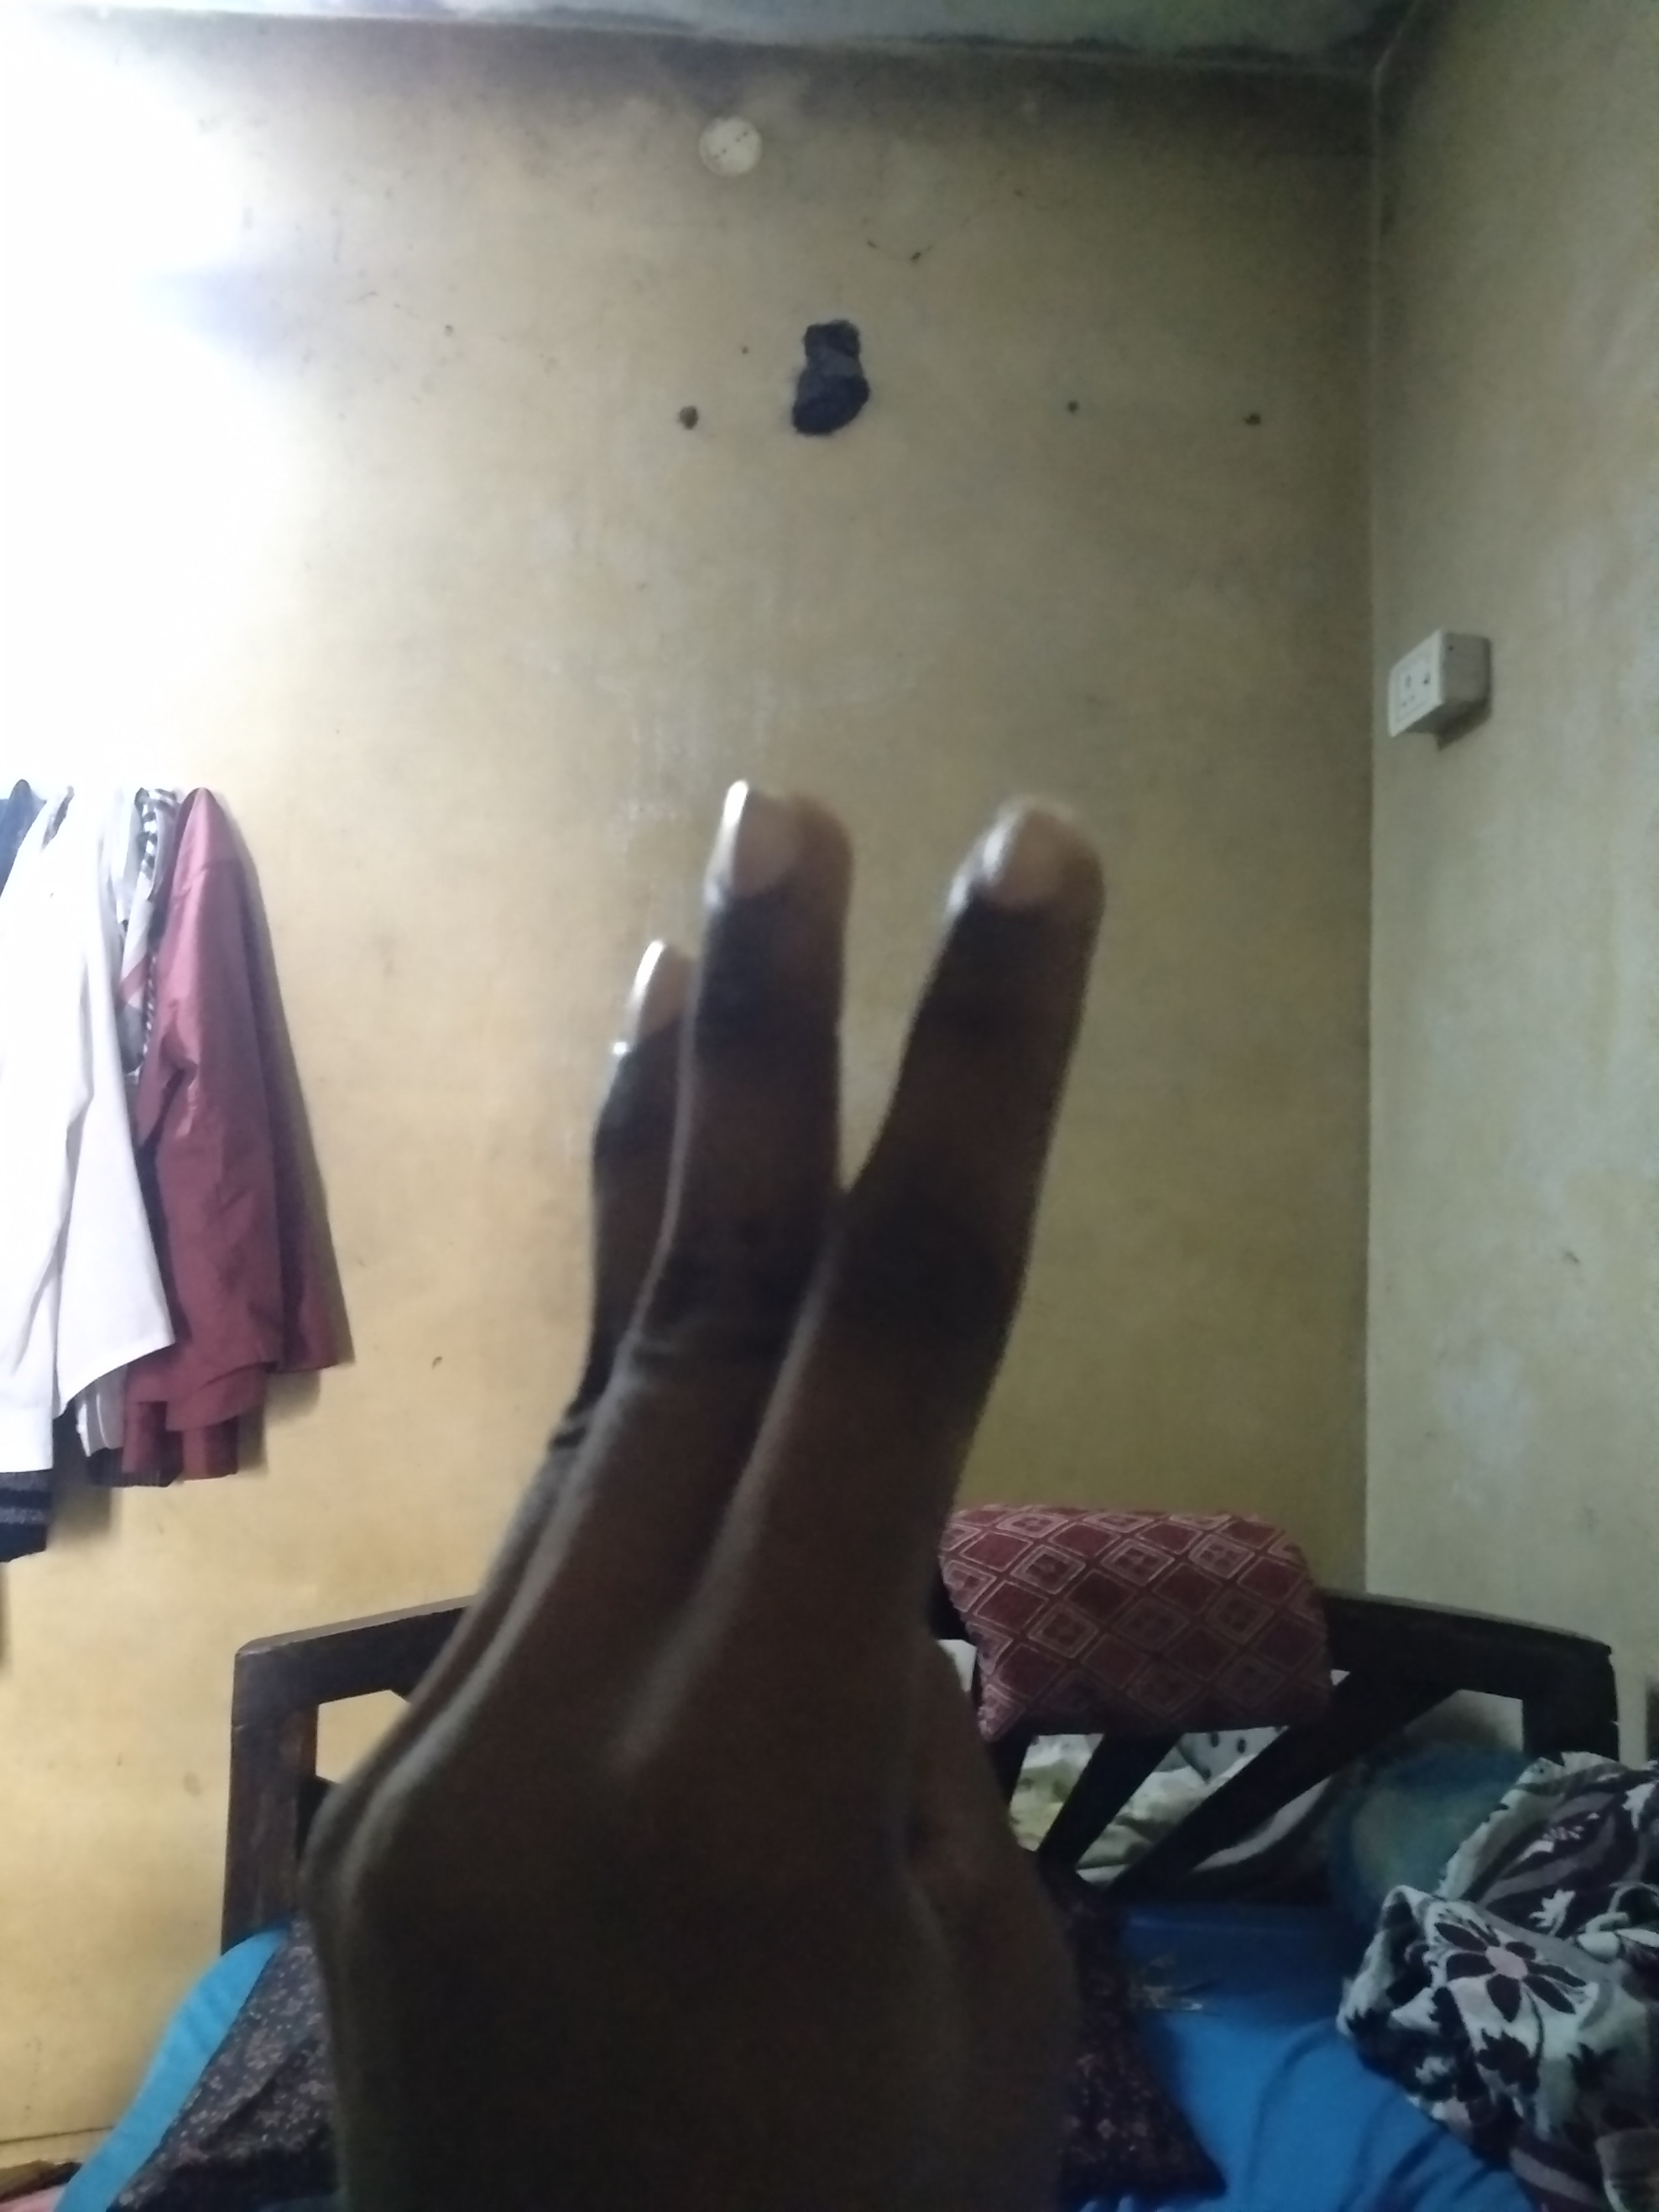three: (512, 808, 586, 937)
